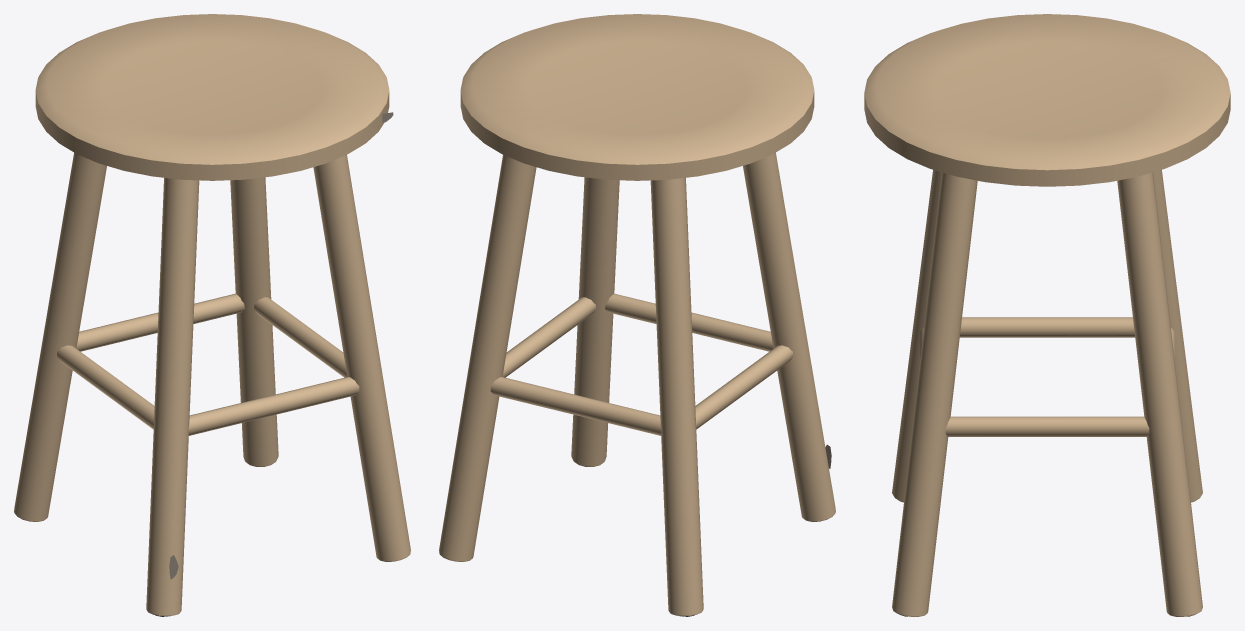
File: furniture_stool.fbx
The picture shows the model from 3 angles, left to right: view 1: azimuth 30°, elevation 25°; view 2: azimuth 150°, elevation 25°; view 3: azimuth 270°, elevation 25°; orthographic projection. The views are drawn at different scales.
Parts seen in each view (by area): view 1: furniture_stool; view 2: furniture_stool; view 3: furniture_stool.
Boxes of the visible parts, x1,y1,x2,y2 form: furniture_stool: [14, 14, 410, 616]; furniture_stool: [439, 14, 835, 616]; furniture_stool: [864, 14, 1230, 616].
Size of the model in its own units: 0.32 by 0.4521 by 0.32.
